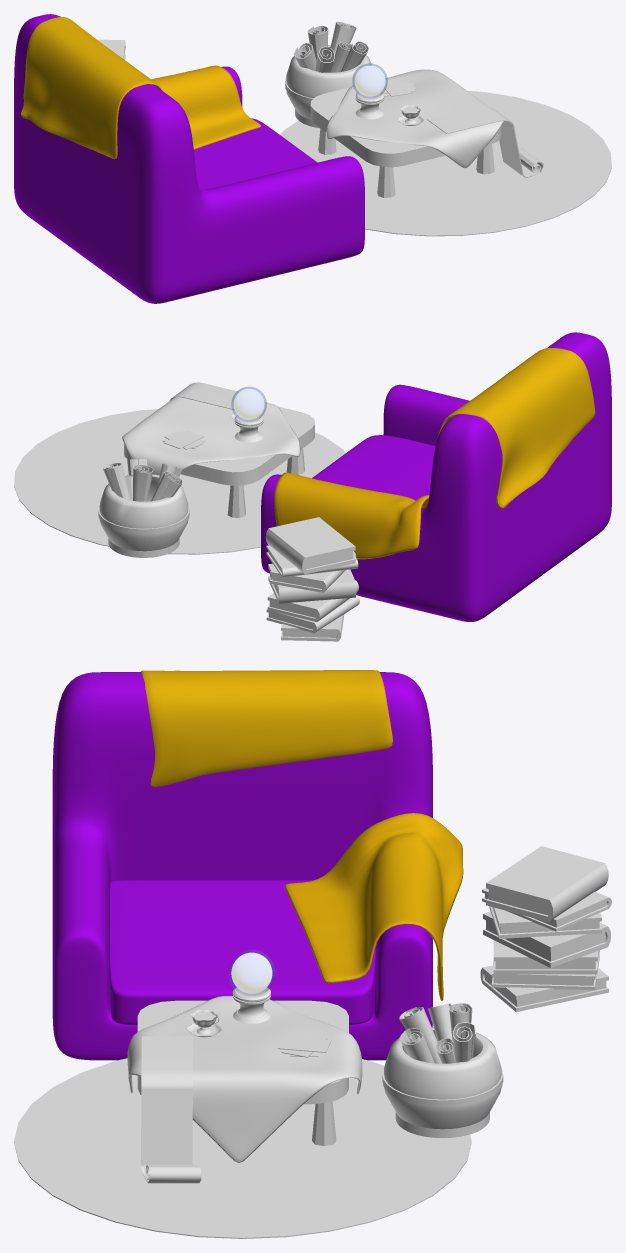
File: tarot 2.fbx
3 renders of one model, top to bottom at view 1: azimuth 30°, elevation 25°; view 2: azimuth 150°, elevation 25°; view 3: azimuth 270°, elevation 25°, orthographic. The views are drawn at different scales.
Visible parts, largest first — view 1: Cube, Cylinder.003, Plane.002, Plane.006, Plane, Cube.001, Cube.002, Plane.007, Cylinder.002, Sphere, Sphere.001, Cylinder (+7 smaller); view 2: Cube, Cylinder.003, Plane.002, Plane, Plane.006, Cube.001, Cylinder.002, Sphere.008, Cube.002, Sphere.003, Sphere.002, Sphere.006 (+11 smaller); view 3: Cube, Cylinder.003, Cube.001, Plane.002, Plane, Plane.006, Cylinder.002, Plane.007, Sphere.008, Cube.002, Sphere.003, Sphere.007 (+11 smaller).
Part boxes in pixels (x1,y1,x2,y2): Cube: (14,14,364,303); Cylinder.003: (280,91,611,236); Plane.002: (21,17,162,159); Plane.006: (326,69,504,168); Plane: (151,65,261,149); Cube.001: (194,118,317,189); Cube.002: (310,87,501,167); Plane.007: (427,106,543,177); Cylinder.002: (285,45,371,128); Sphere: (352,63,387,97); Sphere.001: (354,65,385,96); Cylinder: (355,92,384,119); Cube: (261,332,611,621); Cylinder.003: (14,409,345,554); Plane.002: (437,348,595,508); Plane: (274,472,429,559); Plane.006: (122,397,300,475); Cube.001: (312,435,435,500); Cylinder.002: (98,474,189,557); Sphere.008: (265,517,355,574); Cube.002: (124,406,314,485); Sphere.003: (268,563,356,603); Sphere.002: (267,580,358,621); Sphere.006: (266,595,359,633); Cube: (52,672,432,1060); Cylinder.003: (14,1058,471,1238); Cube.001: (109,880,376,1024); Plane.002: (141,670,392,786); Plane: (284,813,463,1000); Plane.006: (127,996,362,1163); Cylinder.002: (382,1027,503,1138); Plane.007: (141,1036,201,1183); Sphere.008: (486,846,608,922); Cube.002: (137,1000,348,1104); Sphere.003: (483,911,610,967); Sphere.007: (480,965,608,1012).
Bounding box in the file's own units: 541 × 196 × 403.
